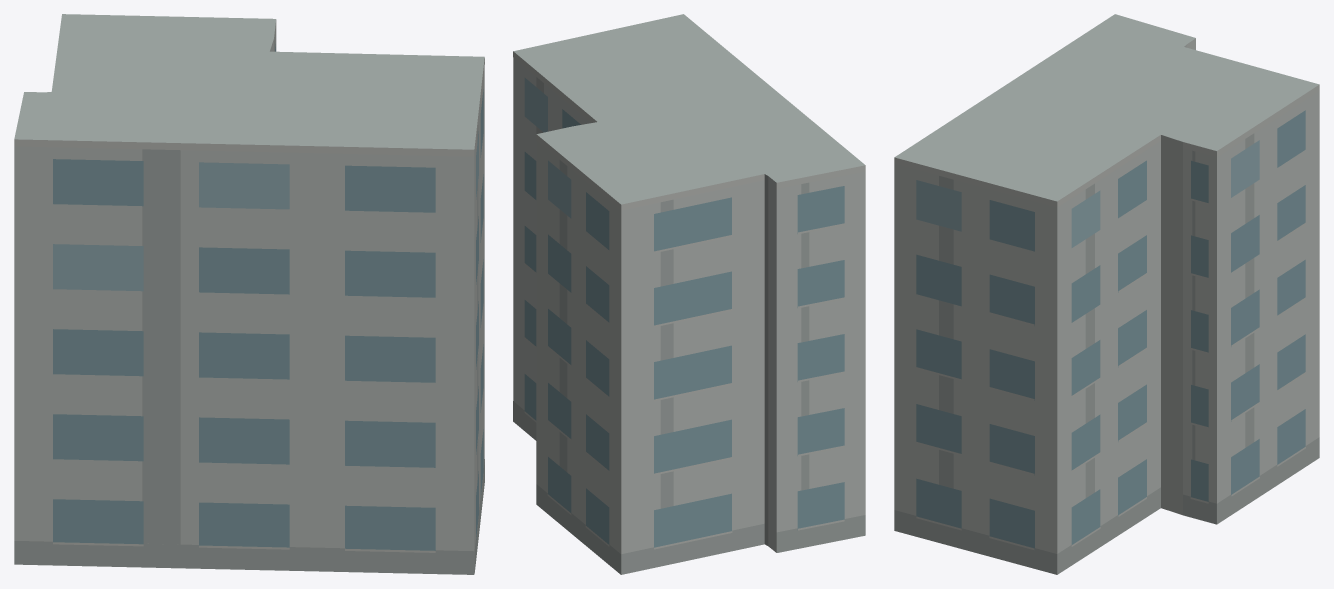
Rendered from survey-upis-32887670.glb.
3 renders of one model, left to right at view 1: azimuth 30°, elevation 25°; view 2: azimuth 150°, elevation 25°; view 3: azimuth 270°, elevation 25°, orthographic. The views are drawn at different scales.
Parts seen in each view (by area): view 1: survey-upis-32887670.tmp; view 2: survey-upis-32887670.tmp; view 3: survey-upis-32887670.tmp.
Boxes of the visible parts, x1=… form: survey-upis-32887670.tmp: x1=14, y1=14, x2=484, y2=574; survey-upis-32887670.tmp: x1=513, y1=14, x2=865, y2=574; survey-upis-32887670.tmp: x1=894, y1=14, x2=1319, y2=574.
Size of the model in its own units: 15.84 by 14.7 by 15.18.
